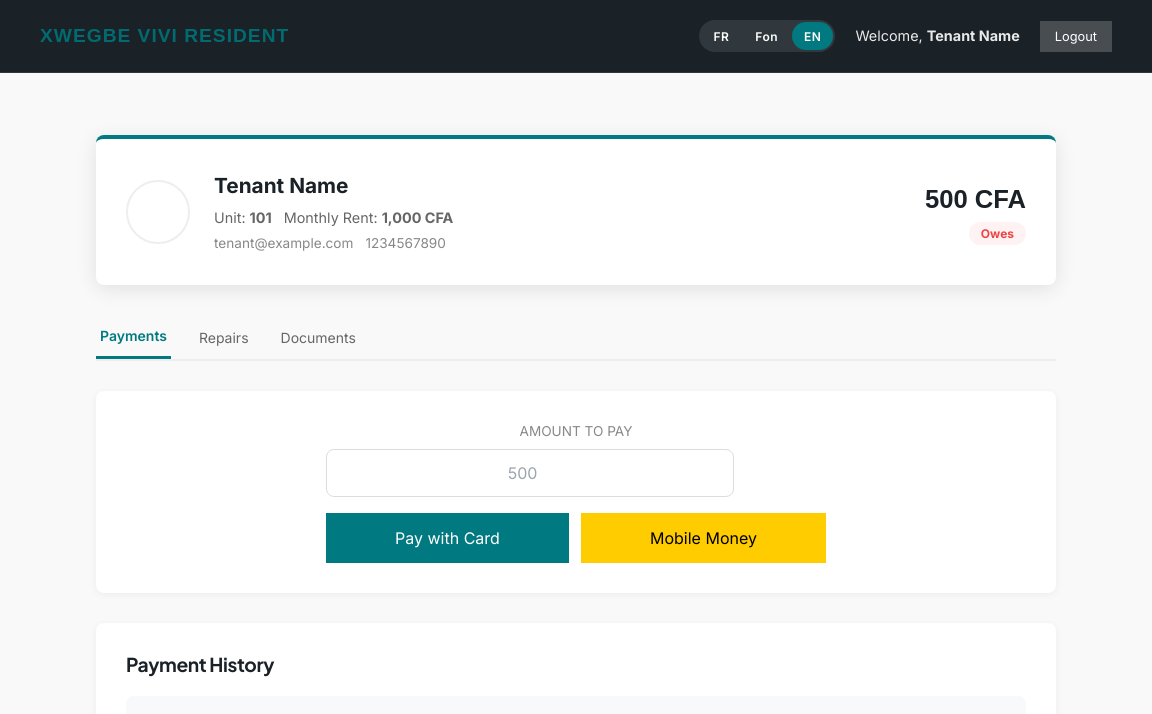
Test: TenantPortal › shows no lease message when lease is not uploaded
Click the button "Documents": (318, 337) [276,315,360,359]
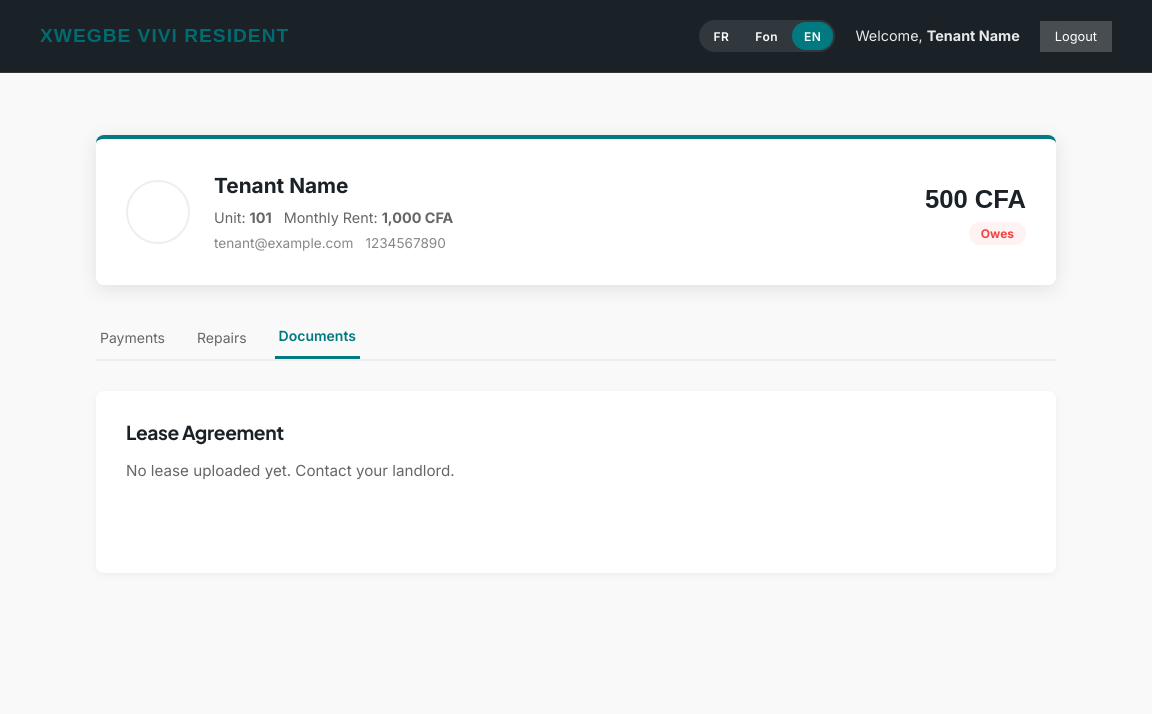
Now the text "No lease uploaded yet. Contact your landlord." is shown, box [126,461,455,480]
